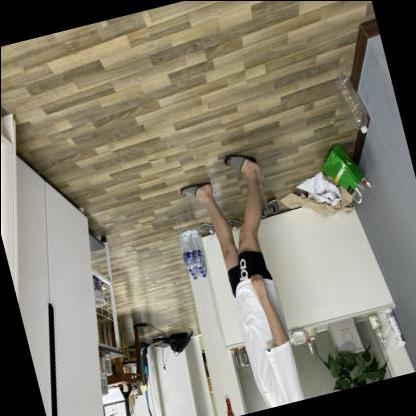no_safety-shoe: (218, 136, 271, 183), (174, 168, 222, 213)
